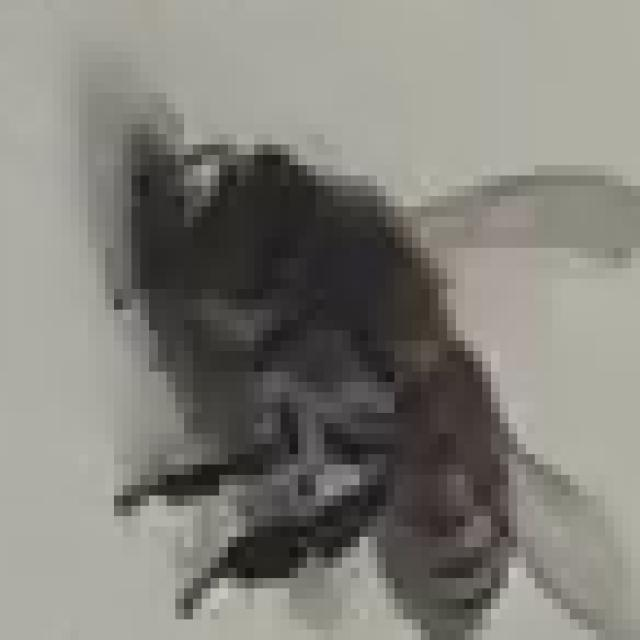honeybee: (91, 98, 614, 565)
